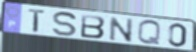0: (167, 23, 188, 48)
B: (80, 13, 107, 40)
N: (108, 15, 134, 43)
Q: (137, 19, 163, 47)
S: (52, 11, 78, 38)
T: (27, 8, 48, 34)
